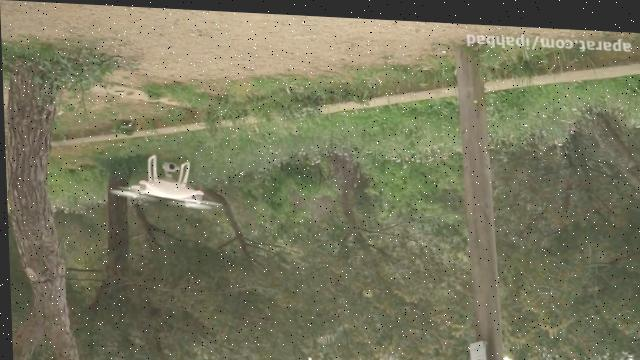drone: (106, 152, 222, 209)
